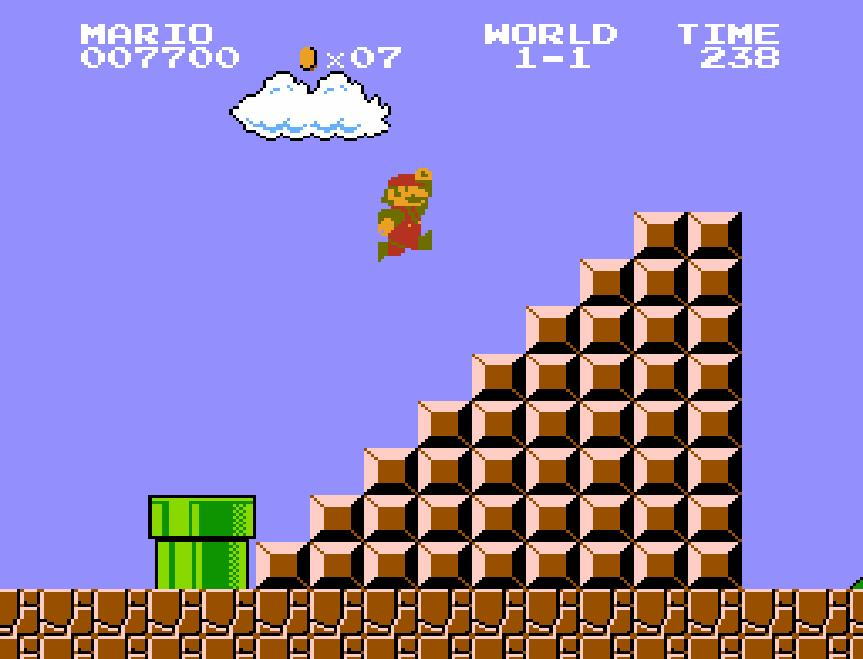big_mario: (376, 165, 434, 263)
